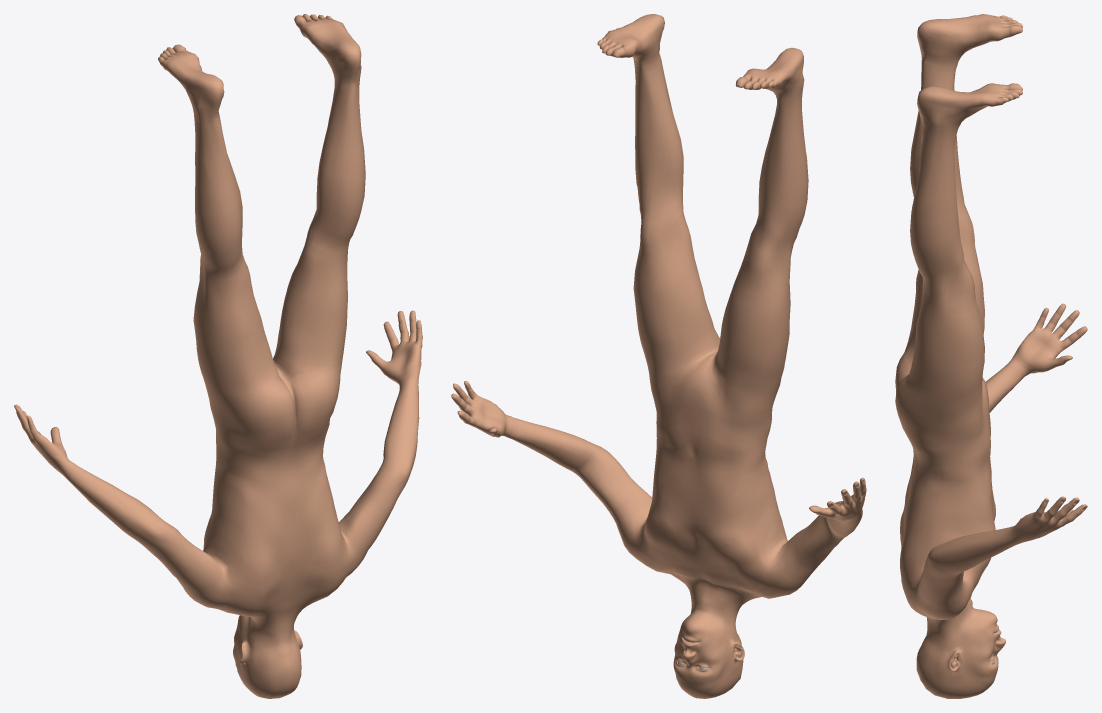
File: human_test.obj
3 views of the same model, side by side, from view 1: azimuth 30°, elevation 25°; view 2: azimuth 150°, elevation 25°; view 3: azimuth 270°, elevation 25° (orthographic).
Parts seen in each view (by area): view 1: Human_Male_Body_Human_male_prototype:Body; view 2: Human_Male_Body_Human_male_prototype:Body; view 3: Human_Male_Body_Human_male_prototype:Body.
Part boxes in pixels (x1,y1,x2,y2): Human_Male_Body_Human_male_prototype:Body: (14,14,422,698); Human_Male_Body_Human_male_prototype:Body: (451,14,866,698); Human_Male_Body_Human_male_prototype:Body: (895,14,1087,698).
Size of the model in its own units: 114 by 175 by 47.55.
